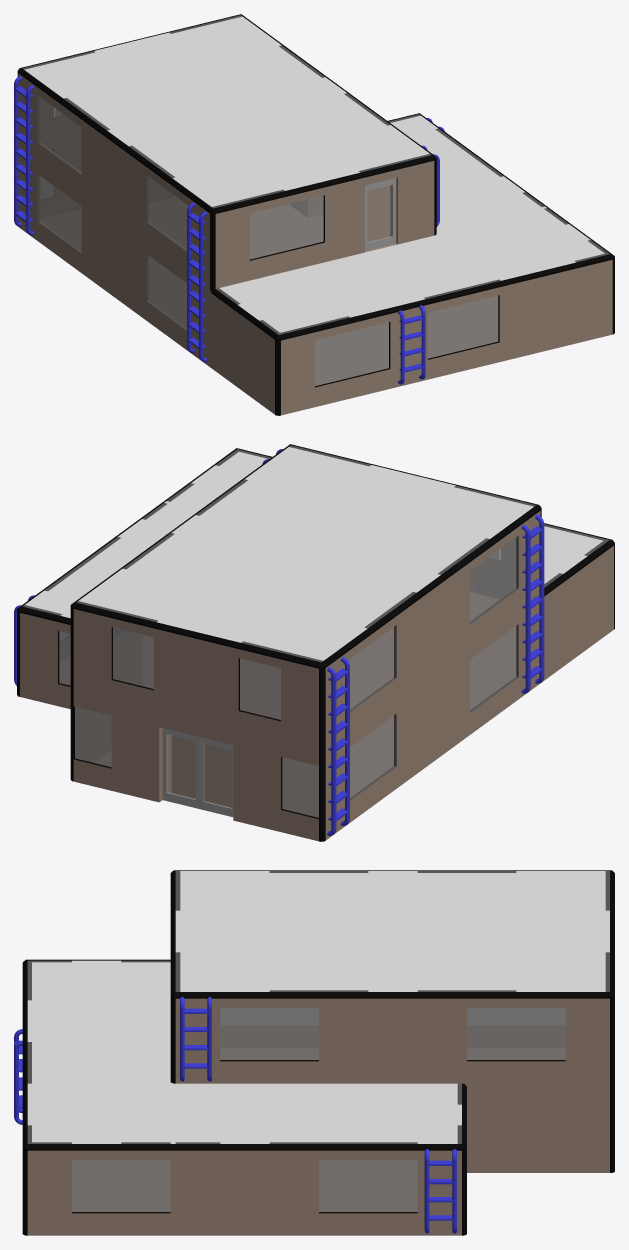
The model's file is building3.03.fbx.
3 renders of one model, top to bottom at view 1: azimuth 30°, elevation 25°; view 2: azimuth 150°, elevation 25°; view 3: azimuth 270°, elevation 25°, orthographic. The views are drawn at different scales.
Visible parts, largest first — view 1: pCube22, building1_02_Deco_Outdoor_Ladder_pCube29, building1_02_building_objects_building01_pCube71, building1_02_Deco_Outdoor_Ladder_pCube30, building1_02_Deco_Outdoor_Ladder_pCube28; view 2: pCube22, building1_02_Deco_Outdoor_Ladder_pCube30, building1_02_building_objects_building01_pCube70, building1_02_Deco_Outdoor_Ladder_pCube29, building1_02_building_objects_building01_pCube69; view 3: pCube22, building1_02_Deco_Outdoor_Ladder_pCube25, building1_02_Deco_Outdoor_Ladder_pCube27, building1_02_Deco_Outdoor_Ladder_pCube28.
Boxes of the visible parts, left/top/right/bottom form: pCube22: left=17, top=14, right=614, bottom=415; building1_02_Deco_Outdoor_Ladder_pCube29: left=14, top=76, right=33, bottom=235; building1_02_building_objects_building01_pCube71: left=365, top=178, right=396, bottom=250; building1_02_Deco_Outdoor_Ladder_pCube30: left=187, top=202, right=206, bottom=361; building1_02_Deco_Outdoor_Ladder_pCube28: left=398, top=305, right=425, bottom=384; pCube22: left=17, top=444, right=614, bottom=841; building1_02_Deco_Outdoor_Ladder_pCube30: left=521, top=514, right=544, bottom=693; building1_02_building_objects_building01_pCube70: left=162, top=728, right=199, bottom=808; building1_02_Deco_Outdoor_Ladder_pCube29: left=327, top=657, right=349, bottom=835; building1_02_building_objects_building01_pCube69: left=199, top=737, right=233, bottom=816; pCube22: left=22, top=870, right=614, bottom=1235; building1_02_Deco_Outdoor_Ladder_pCube25: left=424, top=1149, right=456, bottom=1233; building1_02_Deco_Outdoor_Ladder_pCube27: left=180, top=997, right=211, bottom=1081; building1_02_Deco_Outdoor_Ladder_pCube28: left=14, top=1029, right=22, bottom=1124.
Size of the model in its own units: 9.35 by 4 by 12.18.
